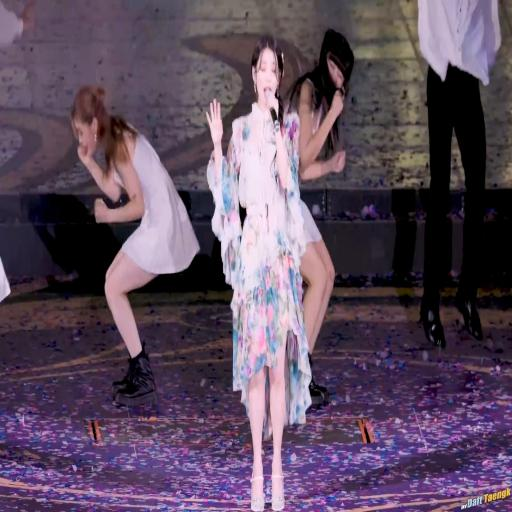IU: (250, 37, 284, 107)
